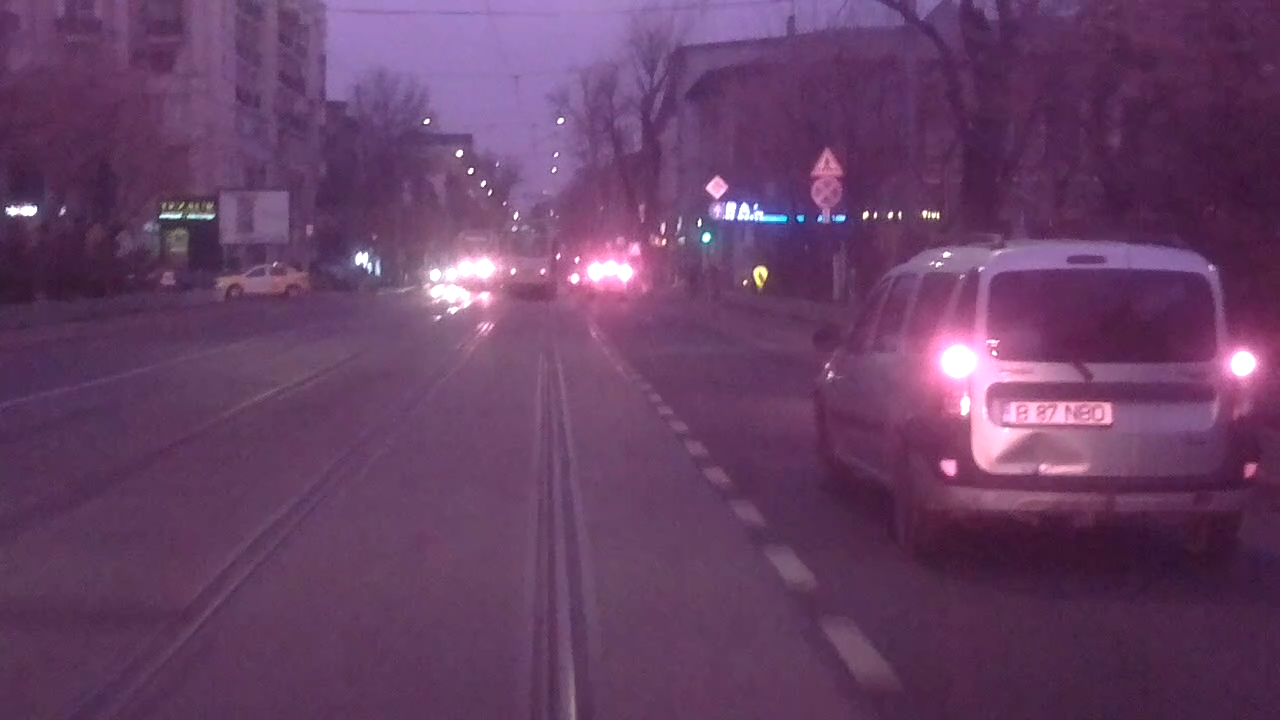license-plate: (996, 397, 1117, 429)
